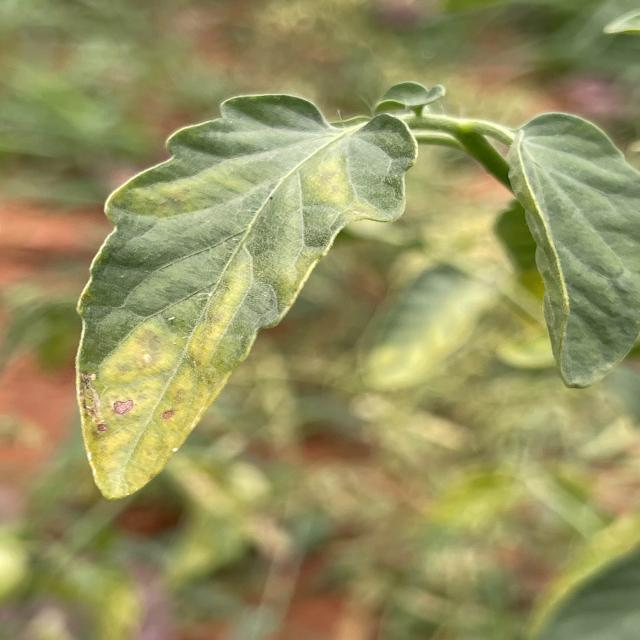tomato_early blight: (76, 94, 417, 500)
tomato_healthy: (509, 112, 640, 388)
